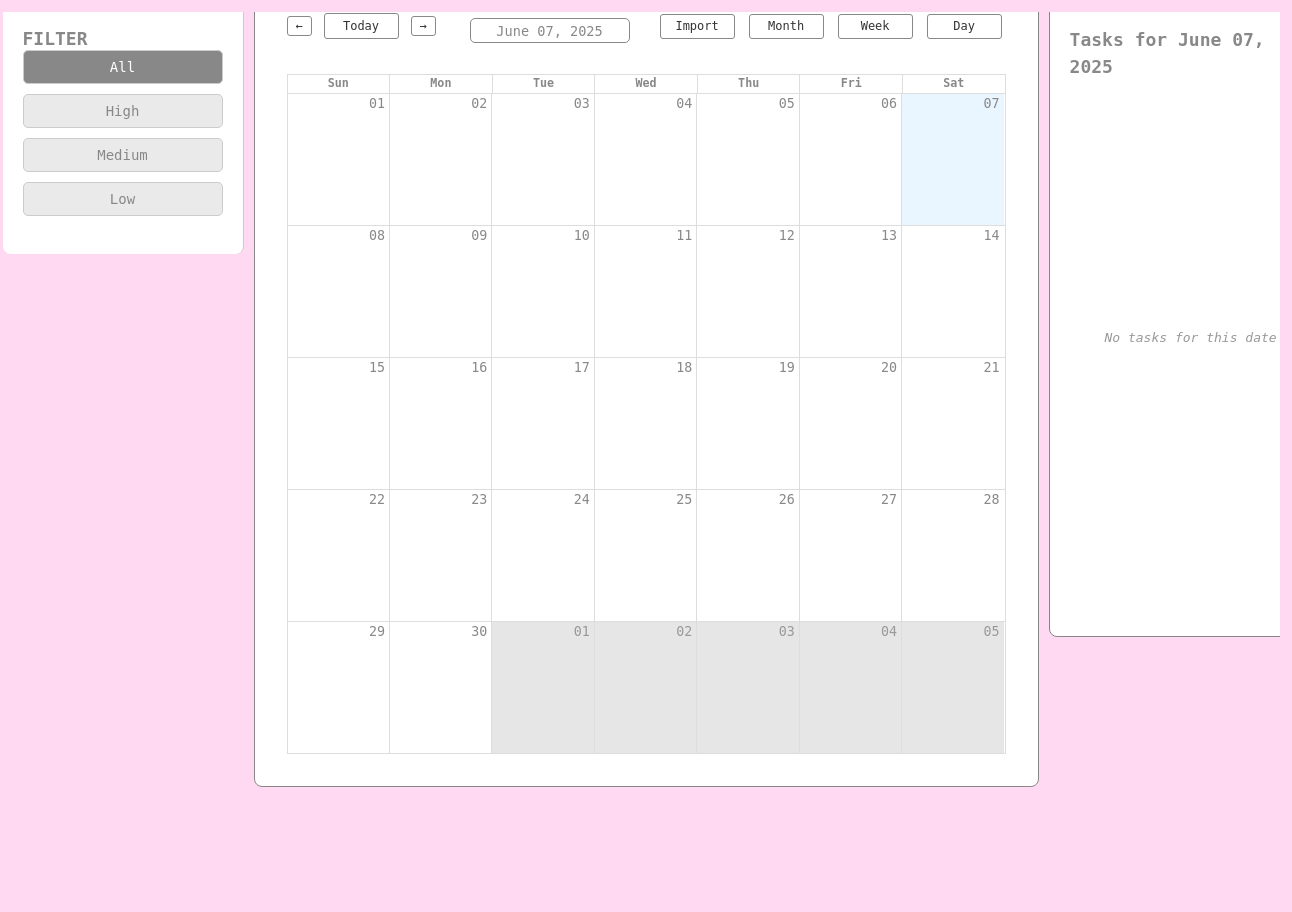
Test: CalendarComponent Tests › Week navigates to week view and week button clickable
Click the button "Week" at (875, 26), box [838,14,913,38]
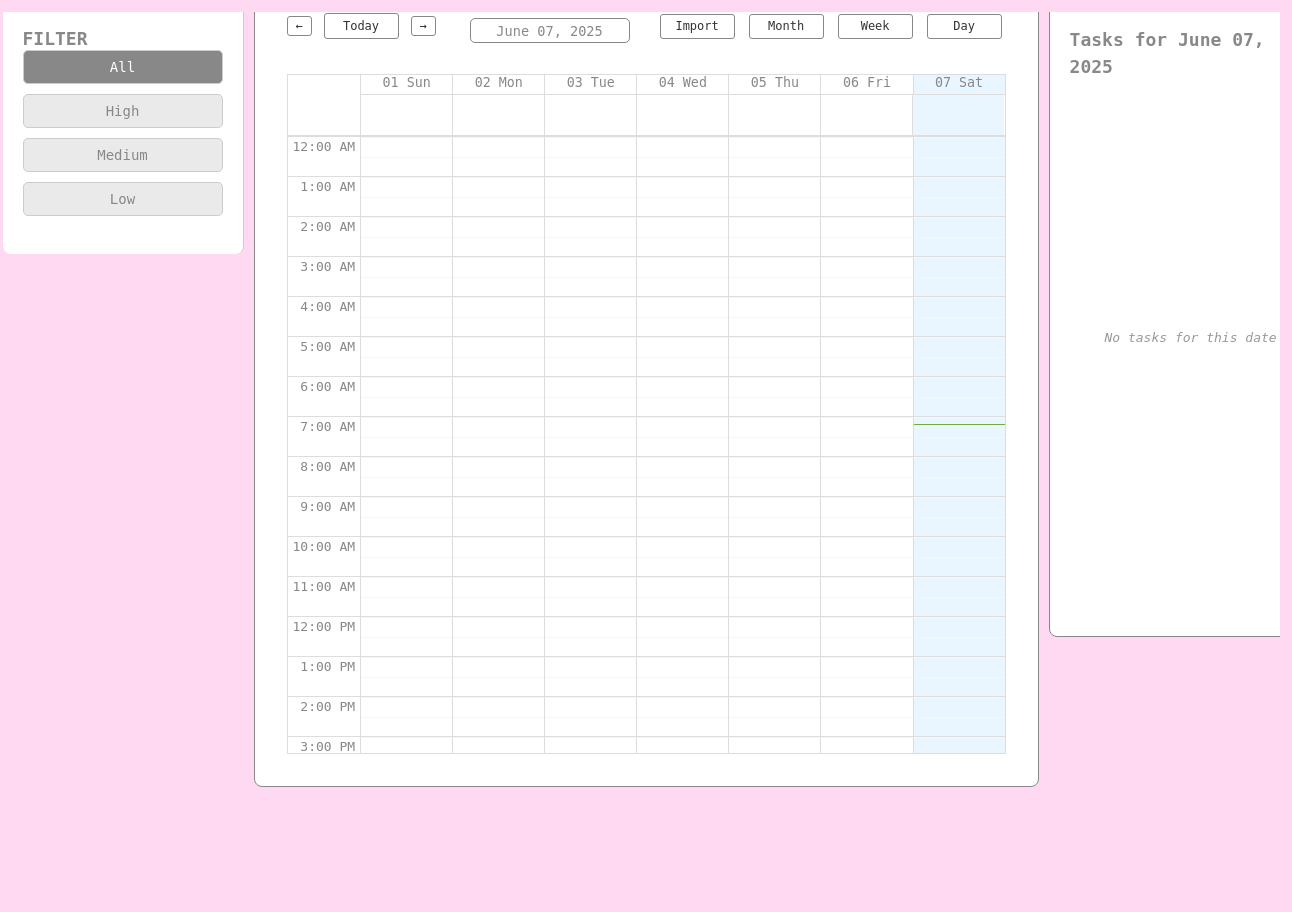
Now the element with class "rbc-time-view" is shown, box [286,74,1006,754]
